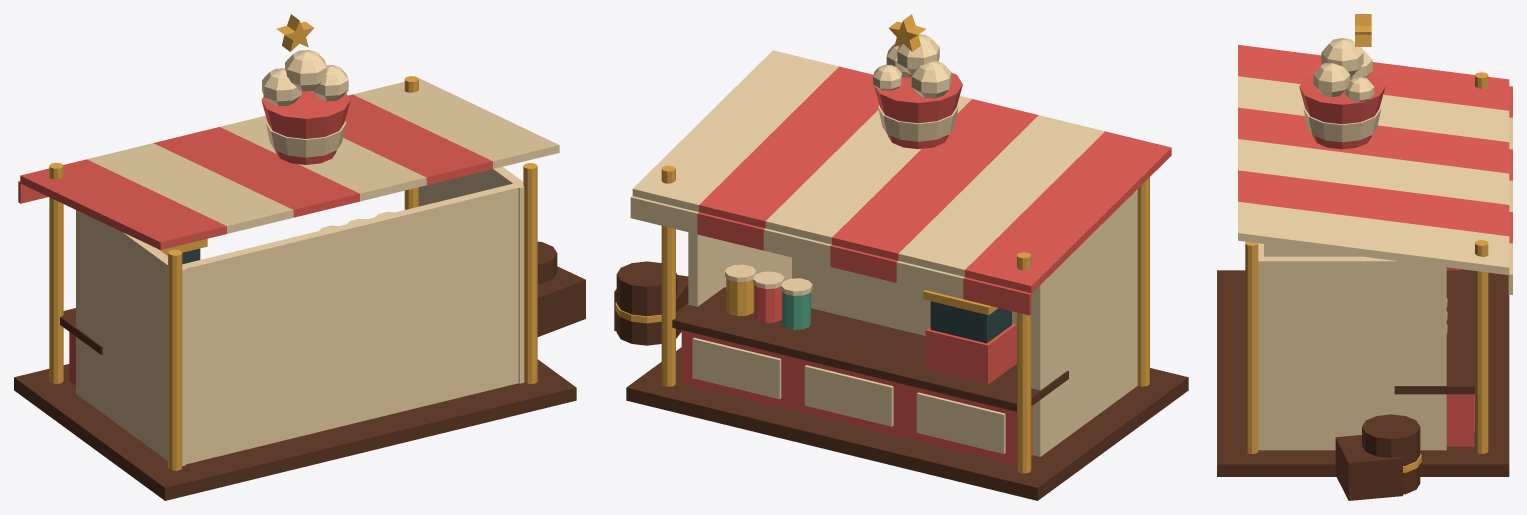
The model's file is ParkParkSnackStand.obj.
3 renders of one model, left to right at view 1: azimuth 30°, elevation 25°; view 2: azimuth 150°, elevation 25°; view 3: azimuth 270°, elevation 25°, orthographic. The views are drawn at different scales.
Visible parts, largest first — view 1: ParkParkSnackStand; view 2: ParkParkSnackStand; view 3: ParkParkSnackStand.
Part boxes in pixels (x1,y1,x2,y2): ParkParkSnackStand: (14, 14, 585, 500); ParkParkSnackStand: (614, 14, 1188, 500); ParkParkSnackStand: (1217, 14, 1512, 500).
Size of the model in its own units: 7.84 by 5.8 by 4.25.
